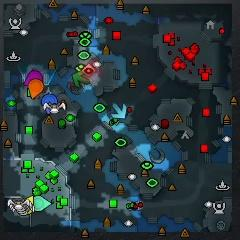Other: (82, 63, 96, 78)
p1: (42, 94, 57, 114)
p2: (34, 195, 51, 211)
p3: (24, 71, 43, 85)
p4: (25, 195, 34, 213)
p5: (29, 78, 43, 99)
x3: (111, 103, 126, 119)
x4: (73, 71, 90, 88)
